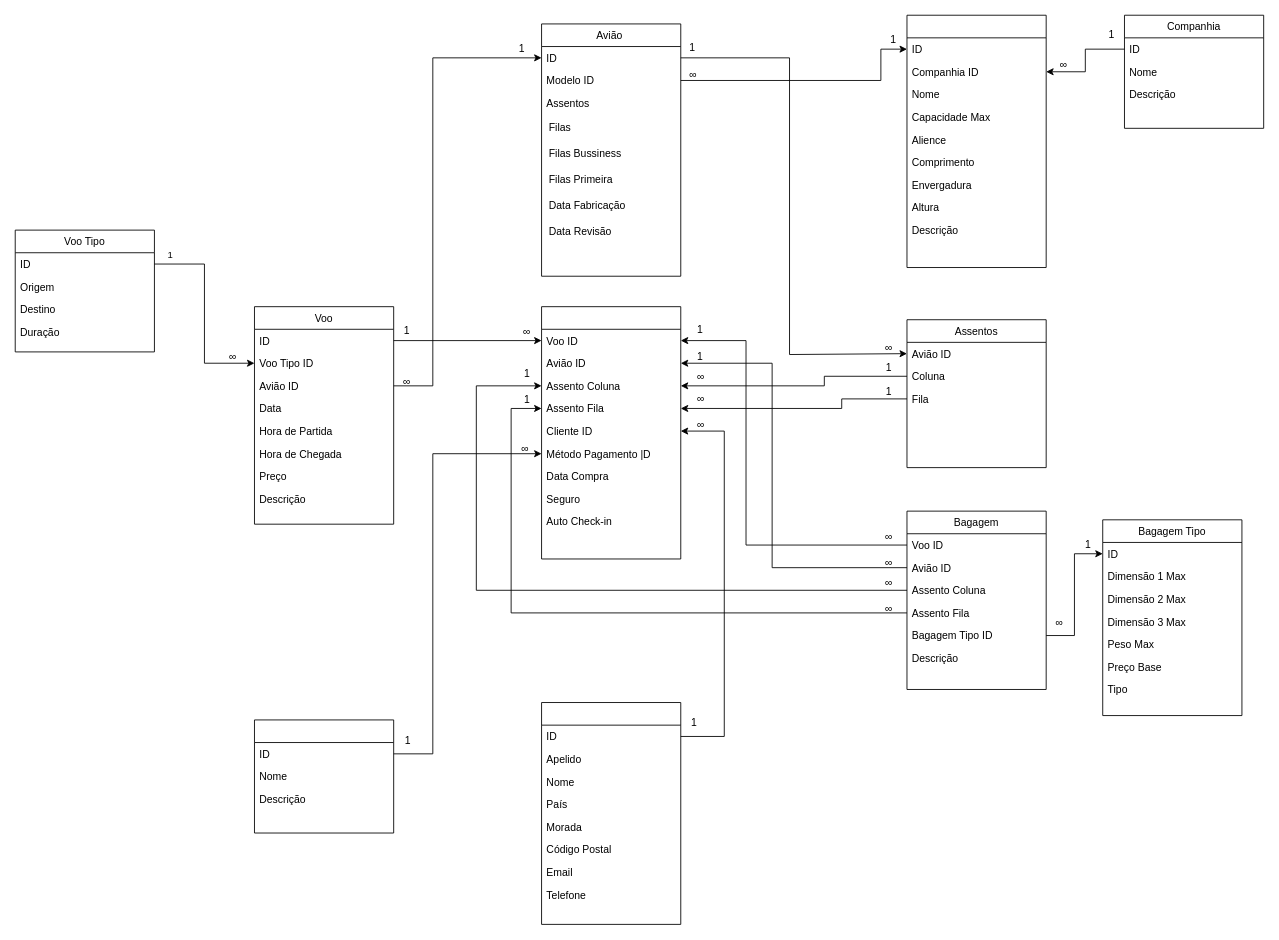
Image size: 1279x940. Some labels were removed from this diagram. Each missing label, with the box of its shape:
Bilhetes: (541, 306, 681, 559)
Cliente: (541, 702, 681, 924)
Metodo Pagamento: (254, 719, 394, 833)
Modelo Avião: (906, 14, 1046, 268)
